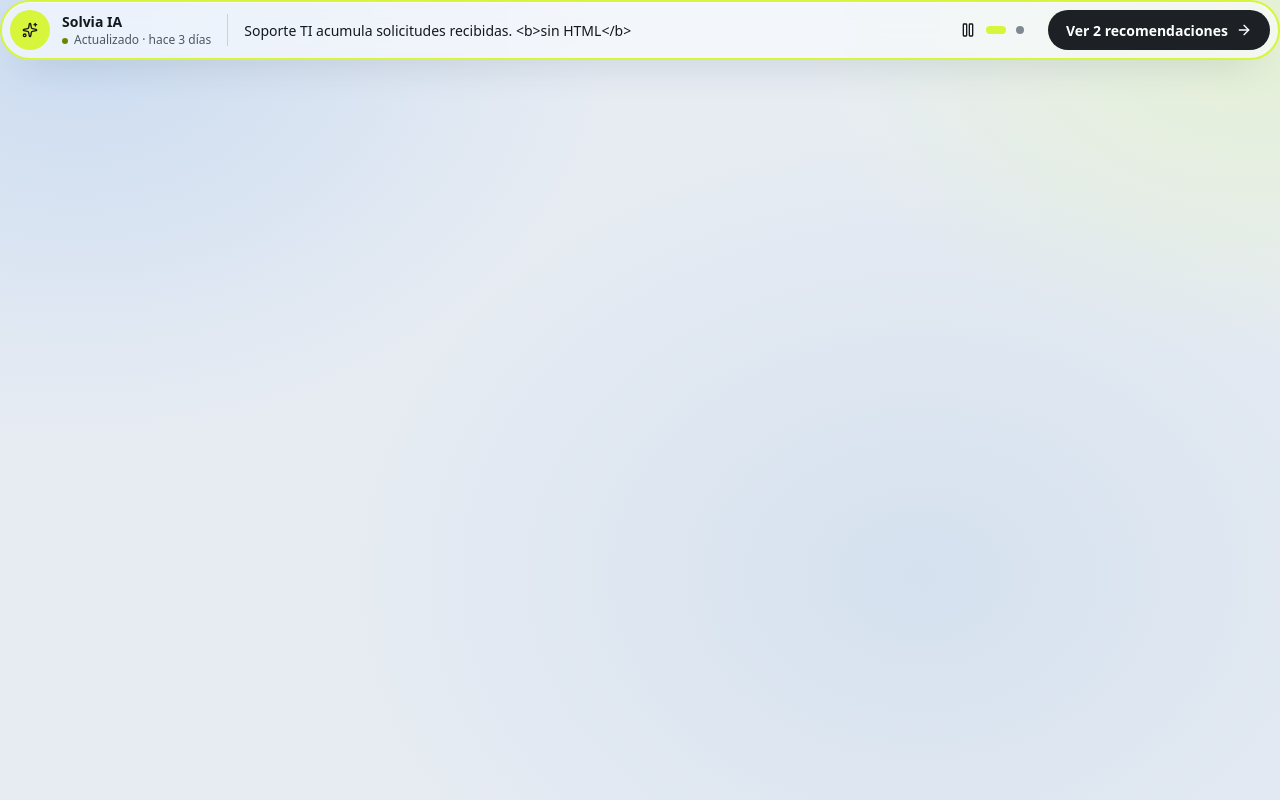
it: banner de IA en el panel › el titular grande usa headline y, sin él, la primera frase recortada del resumen
Click the button "Ver 2 recomendaciones". click: click(1159, 30)
box: [1048,10,1270,50]
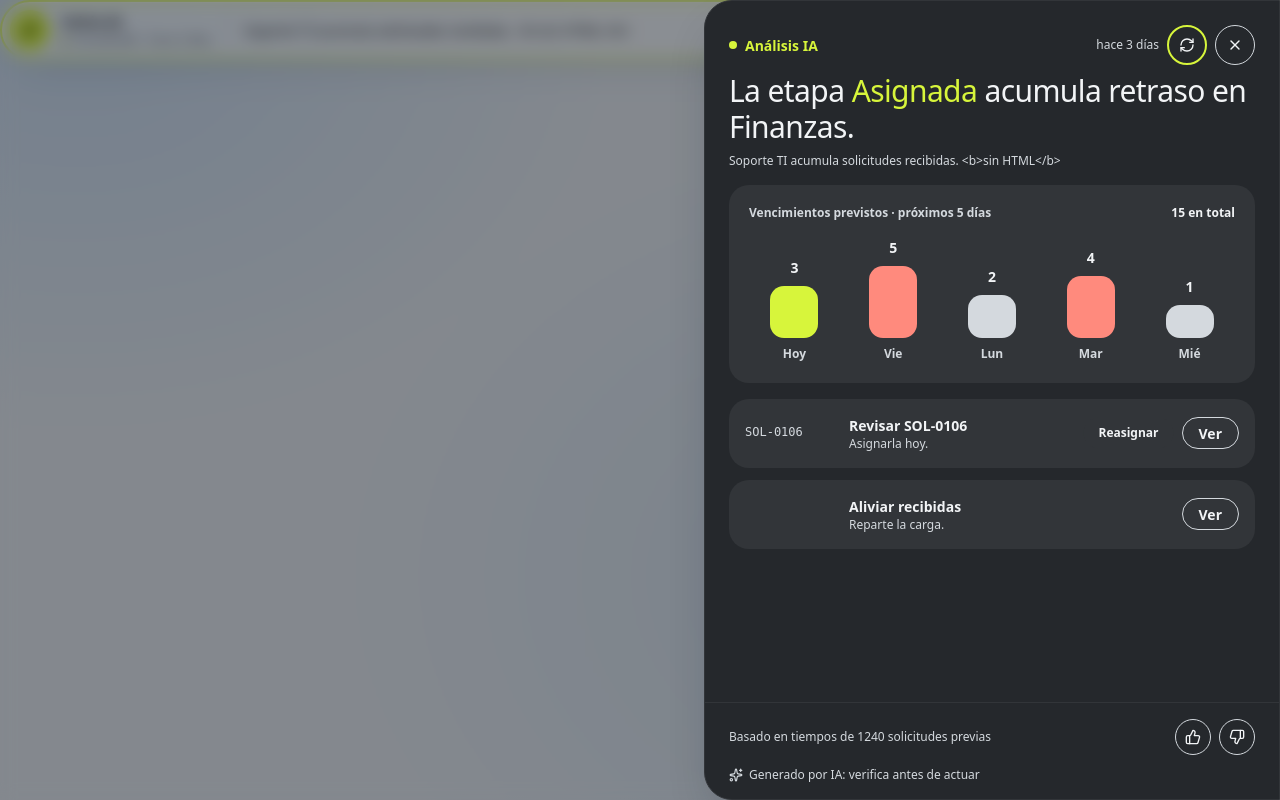
Expected: the element with test id "overview-headline" reads "La etapa Asignada acumula retraso en Finanzas.", [729,73,1255,145]
Expected: the text with test id "overview-summary" shows "Soporte TI acumula solicitudes recibidas.", [729,152,1061,169]
